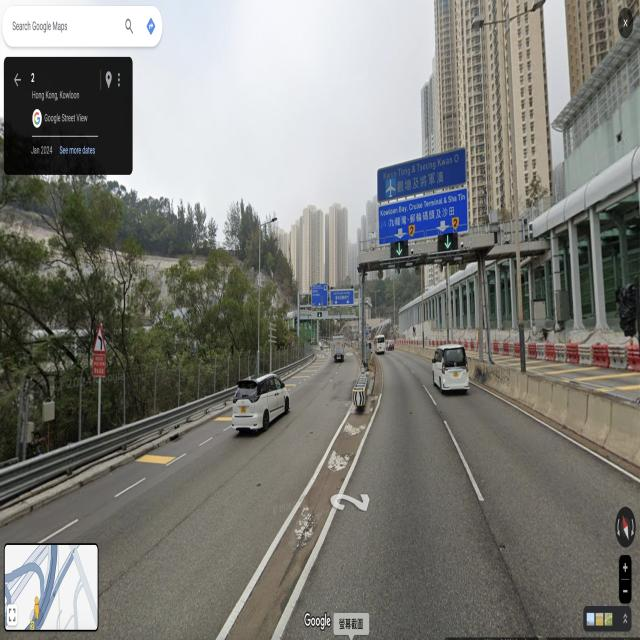Direction-Sign: (379, 189, 468, 244), (378, 147, 466, 202), (330, 290, 354, 305), (312, 284, 327, 306)
Warning-Sign: (93, 323, 107, 353), (93, 355, 105, 376)
